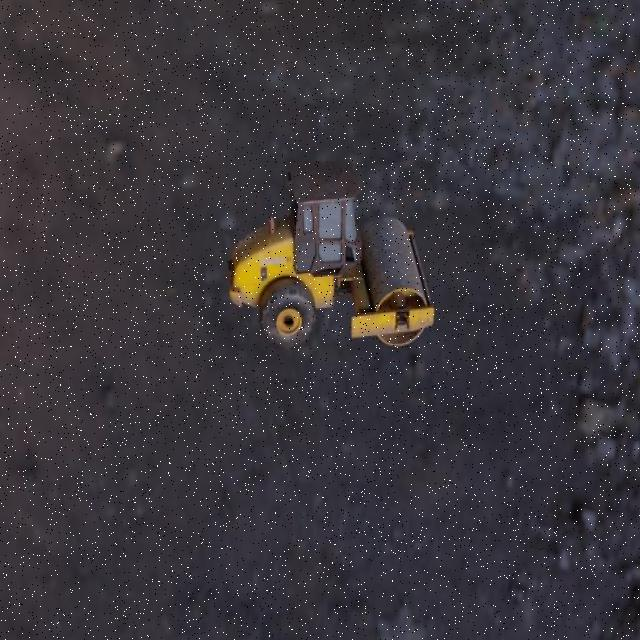Roller: (226, 158, 434, 350)
